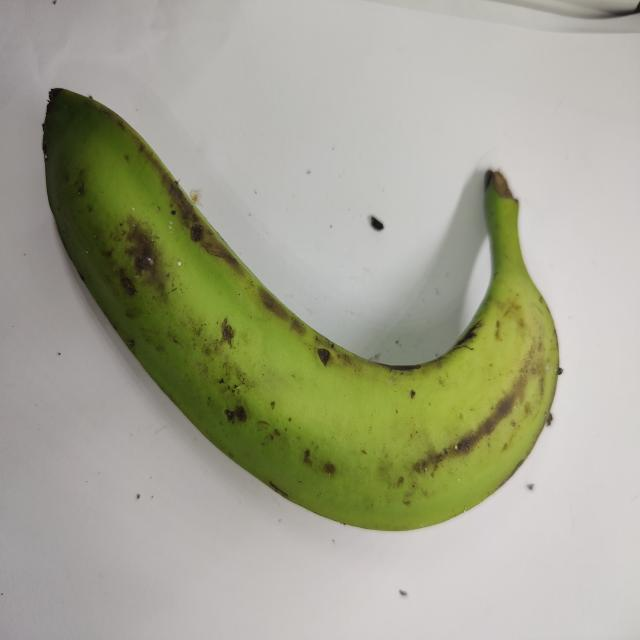Raw: (22, 38, 576, 559)
